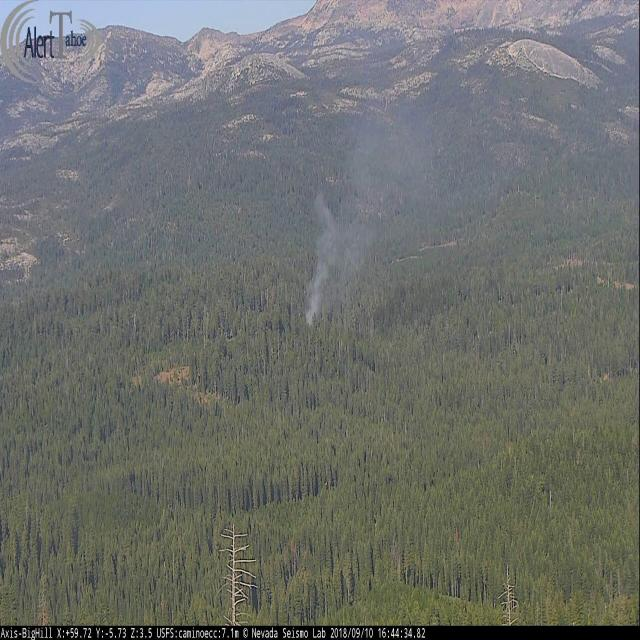smoke: (304, 38, 492, 323)
